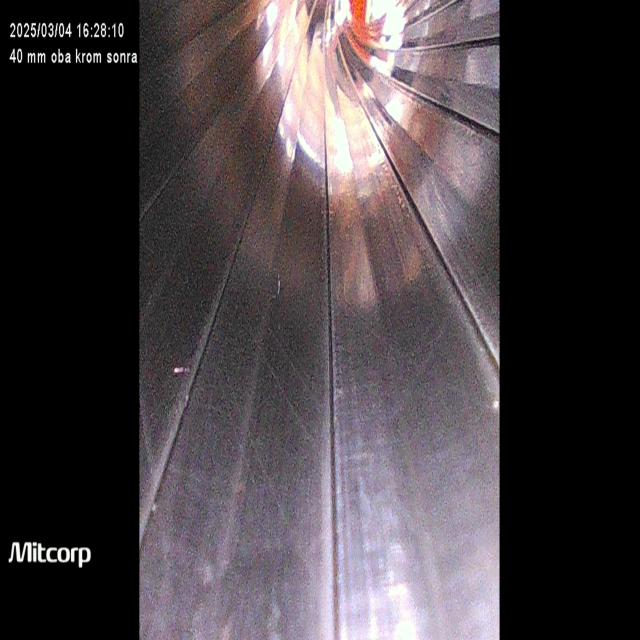hata_8.1: (310, 269, 363, 640)
